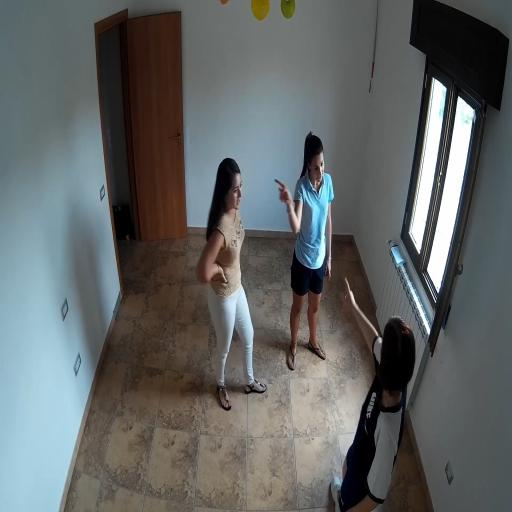nao-violencia: (266, 114, 420, 512)
